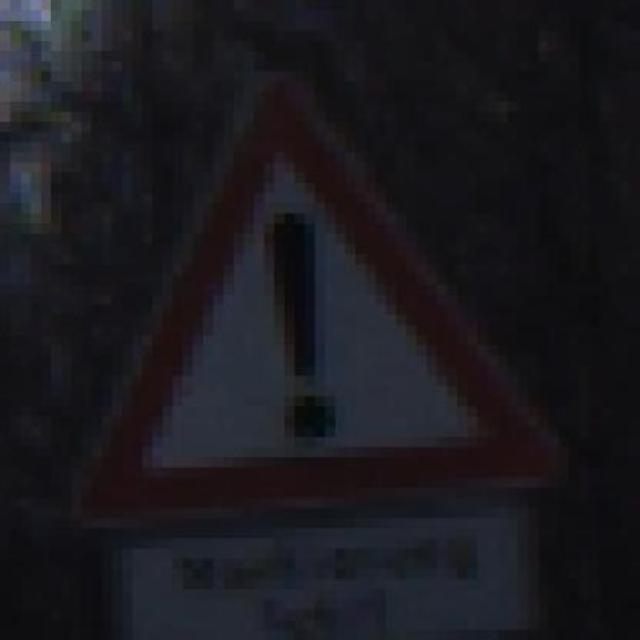Attention Please-: (41, 71, 610, 538)
